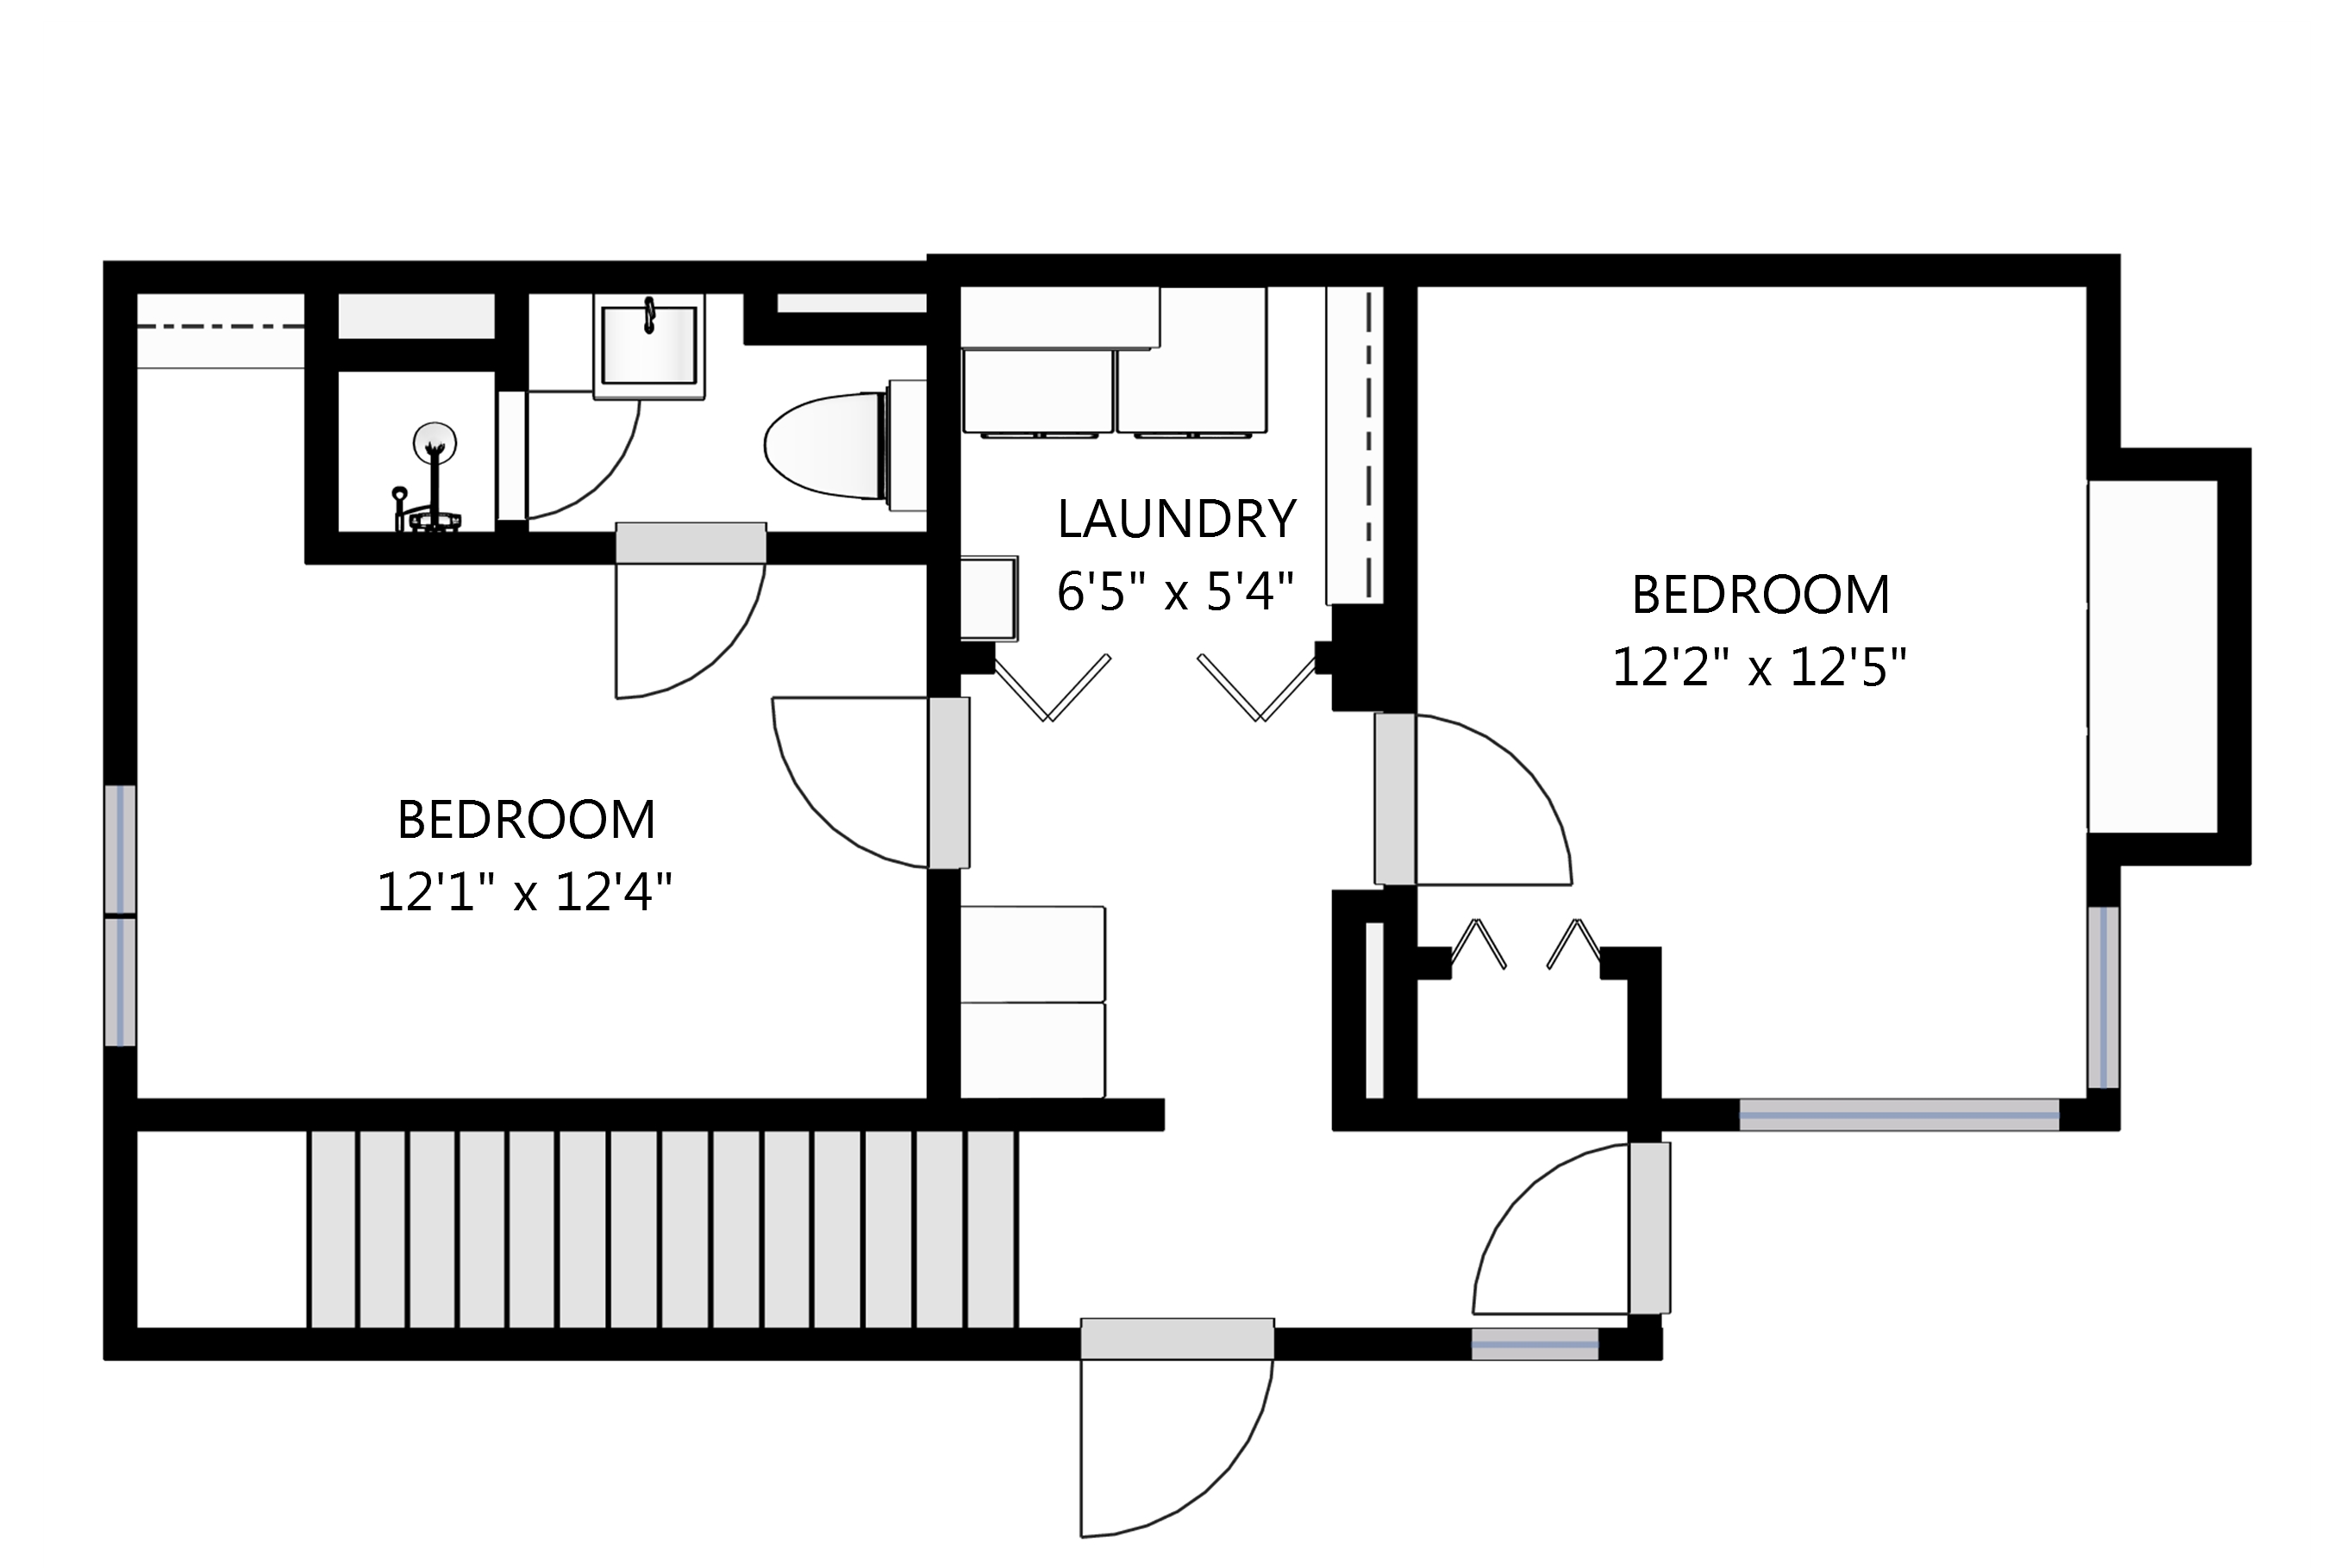room: (1382, 248, 2255, 1137), (94, 521, 962, 1136), (927, 245, 1421, 714), (924, 644, 1368, 1137), (499, 261, 962, 563), (306, 250, 532, 567), (304, 248, 530, 565), (1382, 910, 1667, 1137)
